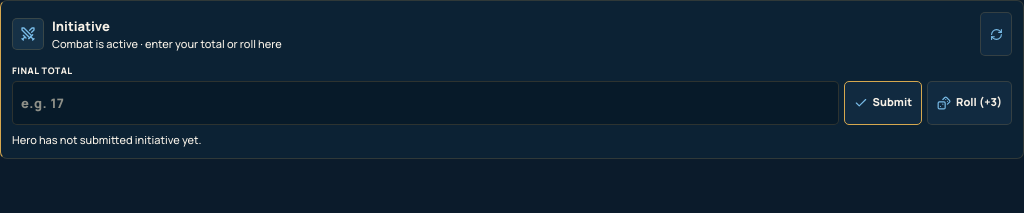
it: player combat initiative widget › keeps the last confirmed active combat visible when a refresh fails
The width and height of the screenshot is (1024, 213).
expect the text "Hero has not submitted initiative yet." is shown: met, box x1=12 y1=132 x2=202 y2=146
Click the button titled "Refresh initiative status": point(996, 34) x1=980 y1=12 x2=1012 y2=56
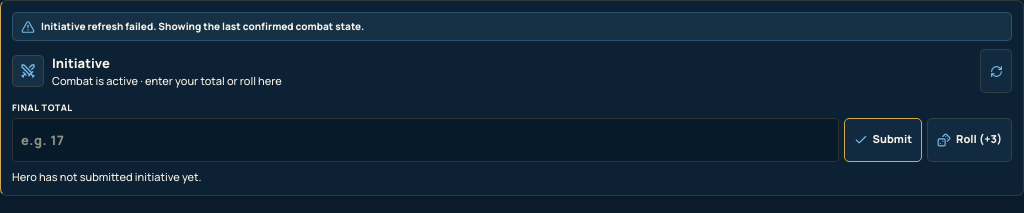
expect the text "Hero has not submitted initiative yet." is shown: met, box x1=12 y1=168 x2=202 y2=184
expect the message with test id "player-combat-initiative-warning" shows "Showing the last confirmed combat state": met, box x1=41 y1=19 x2=364 y2=33
